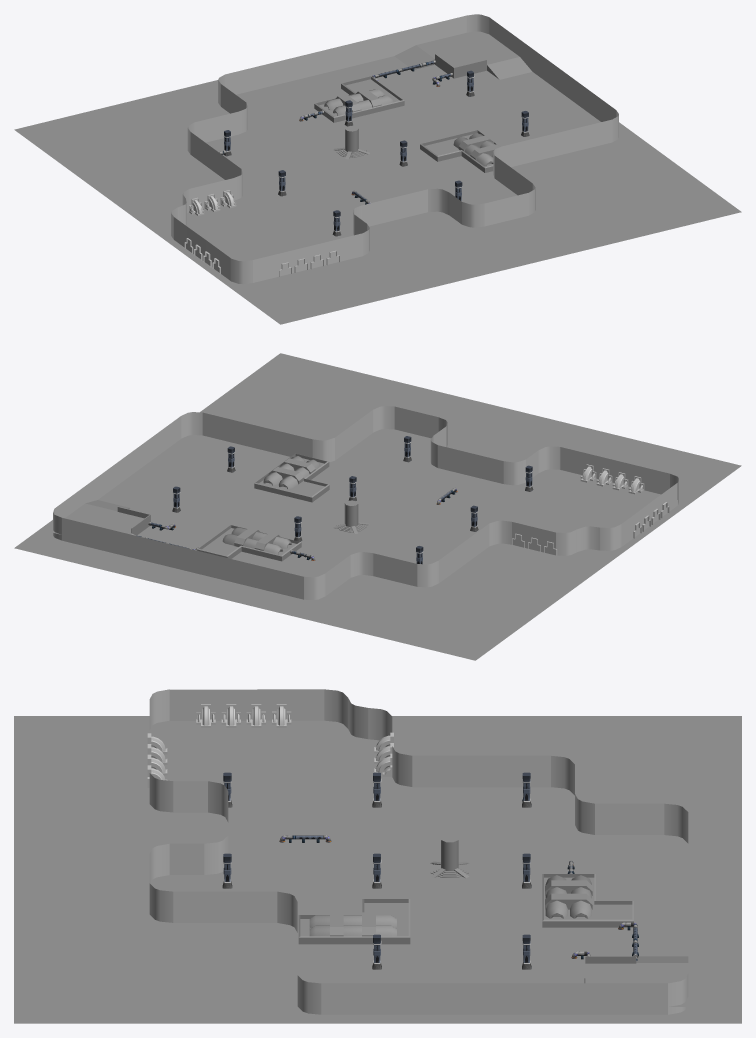
The model's file is model_bane_10-11-15.FBX.
The picture shows the model from 3 angles, top to bottom: view 1: azimuth 30°, elevation 25°; view 2: azimuth 150°, elevation 25°; view 3: azimuth 270°, elevation 25°; orthographic projection. The views are drawn at different scales.
Parts seen in each view (by area): view 1: Plane001, northwall001, plateau, easternwall001, southernwall001, southernwall004, largeobstacle002, largeobstacle001, southernwall002, westernwall001, westernwall002, southernwall003 (+7 smaller); view 2: Plane001, northwall001, easternwall001, southernwall004, largeobstacle001, largeobstacle002, southernwall001, plateau, southernwall002, westernwall001, westernwall002, northwall002 (+16 smaller); view 3: Plane001, easternwall001, westernwall002, largeobstacle001, westernwall001, largeobstacle002, easternwall002, plateau, westernwall003, corner011, easternwall003, terminal pillar (+16 smaller).
Part boxes in pixels (x1,y1,x2,y2): Plane001: [14, 56, 741, 324]; northwall001: [225, 15, 466, 94]; plateau: [394, 31, 532, 79]; easternwall001: [489, 17, 616, 121]; southernwall001: [253, 233, 362, 282]; southernwall004: [502, 119, 612, 166]; largeobstacle002: [314, 76, 404, 122]; largeobstacle001: [420, 130, 500, 172]; southernwall002: [362, 189, 427, 226]; westernwall001: [174, 217, 230, 280]; westernwall002: [190, 132, 241, 179]; southernwall003: [484, 193, 528, 226]; Plane001: [14, 353, 741, 660]; northwall001: [62, 518, 303, 599]; easternwall001: [54, 416, 181, 518]; southernwall004: [202, 412, 312, 457]; largeobstacle001: [254, 453, 329, 502]; largeobstacle002: [197, 525, 301, 561]; southernwall001: [560, 447, 669, 494]; plateau: [47, 500, 150, 535]; southernwall002: [437, 445, 503, 483]; westernwall001: [621, 483, 677, 546]; westernwall002: [438, 524, 489, 582]; northwall002: [373, 553, 417, 586]; Plane001: [14, 716, 741, 1023]; easternwall001: [321, 983, 667, 1014]; westernwall002: [412, 755, 550, 787]; largeobstacle001: [298, 899, 410, 944]; westernwall001: [169, 689, 324, 720]; largeobstacle002: [542, 874, 633, 927]; easternwall002: [173, 891, 277, 922]; plateau: [584, 956, 688, 1006]; westernwall003: [595, 803, 664, 834]; corner011: [169, 843, 204, 874]; easternwall003: [173, 781, 207, 812]; terminal pillar: [430, 834, 469, 878].
Bounding box in the file's own units: 21000 × 1230 × 21000.
